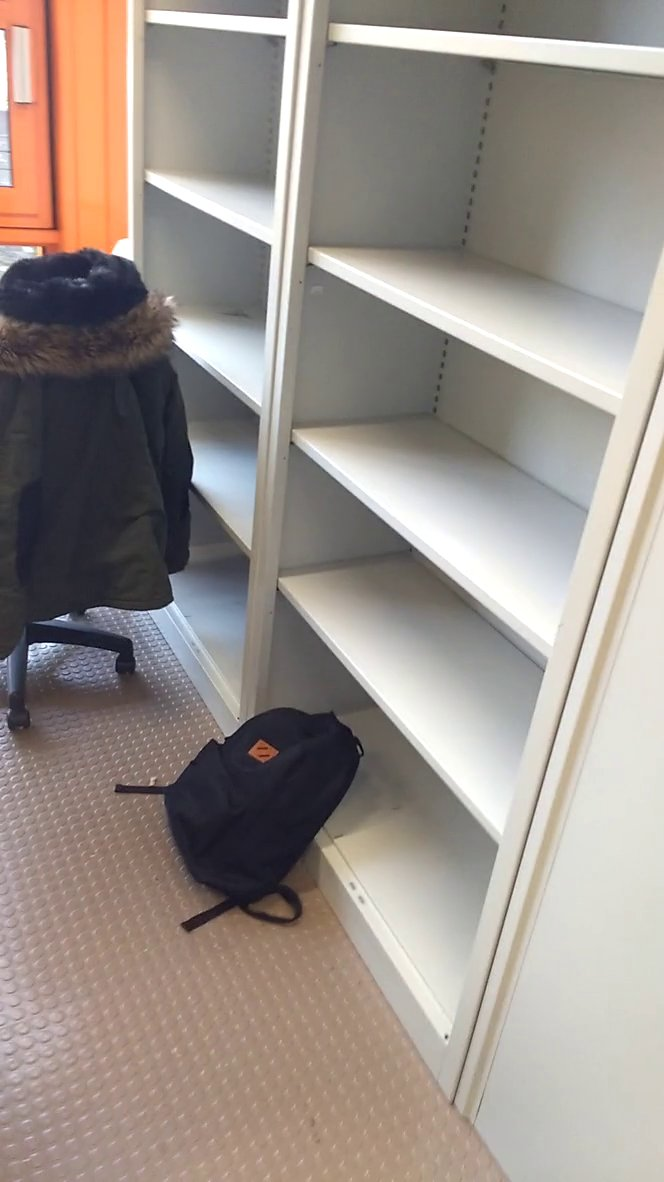bag: (115, 698, 368, 941)
